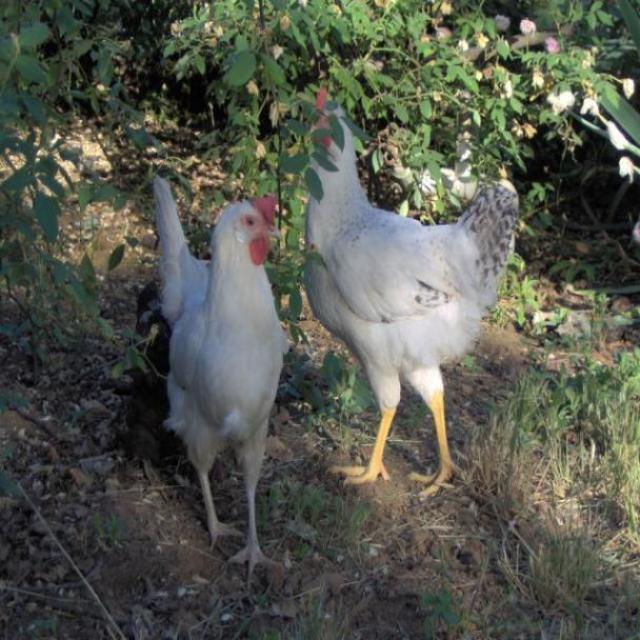Chicken: (298, 81, 525, 507), (155, 200, 298, 567)
